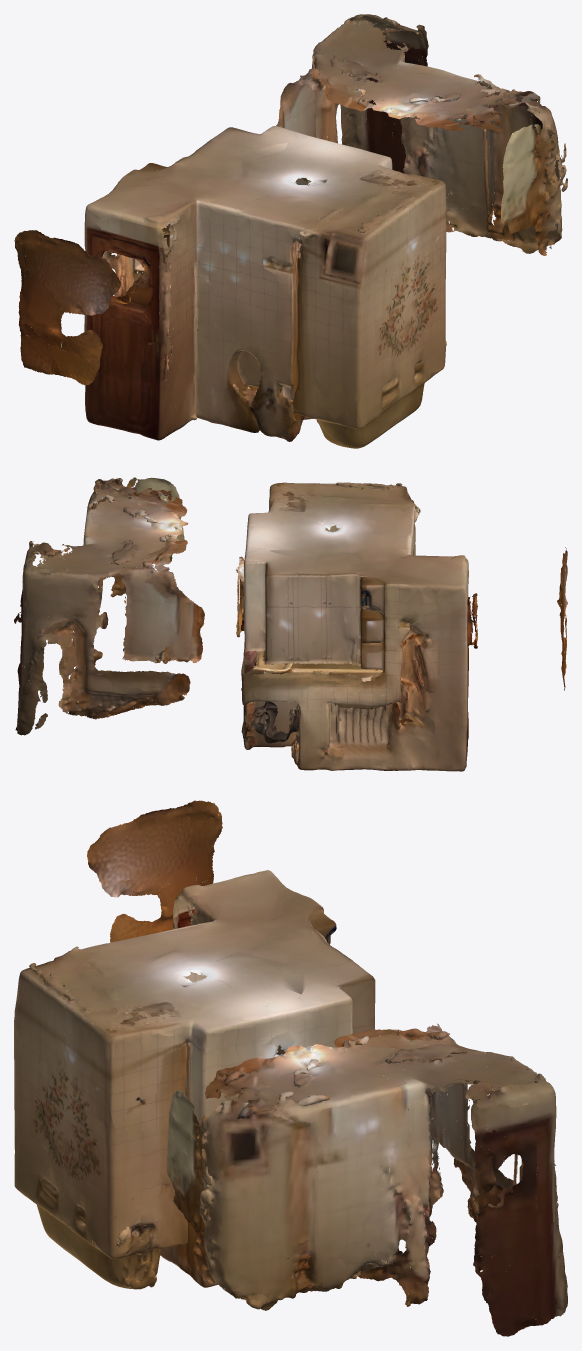
3 renders of one model, top to bottom at view 1: azimuth 30°, elevation 25°; view 2: azimuth 150°, elevation 25°; view 3: azimuth 270°, elevation 25°, orthographic. The views are drawn at different scales.
Visible parts, largest first — view 1: mesh; view 2: mesh; view 3: mesh.
Boxes of the visible parts, box(x1,y1,x2,y2) form: mesh: box(14, 14, 567, 448); mesh: box(14, 477, 567, 771); mesh: box(14, 800, 567, 1336).
Bounding box in the file's own units: 6.11 × 2.56 × 4.48.
1 material, 1 textured.
